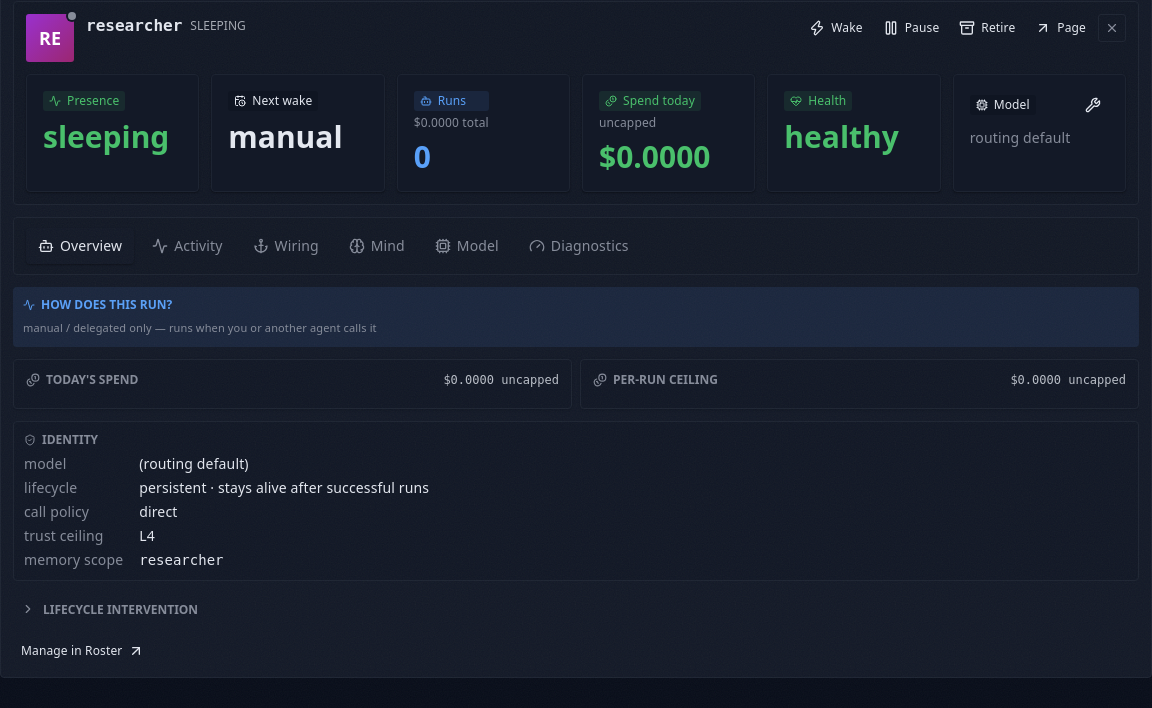
Test: AgentDetail lifecycle intervention › shows acknowledged messages on the agent wiring tab
Click the button "Wiring" at (286, 246), box [241,228,331,264]
(page scrolled)
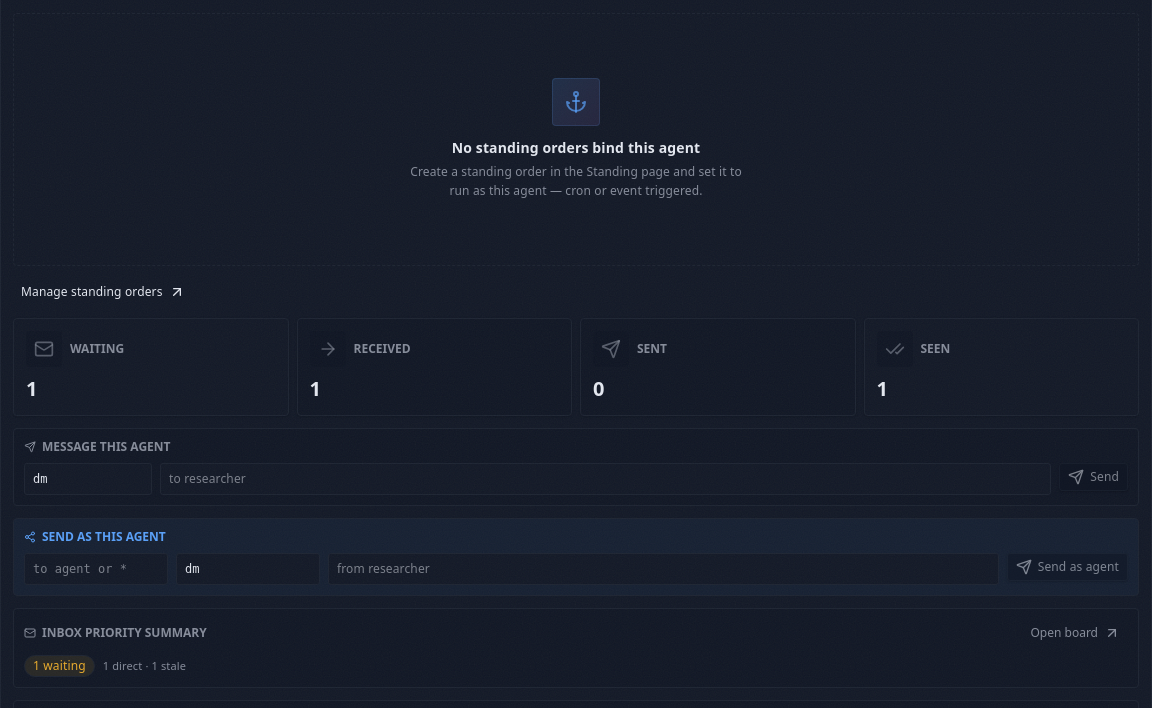
Check: the text "seen" is shown, box [920,341,950,357]
